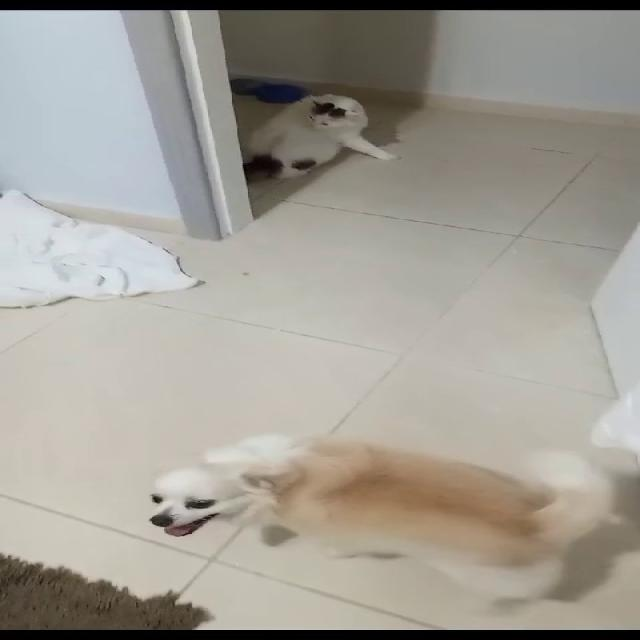Simba: (240, 70, 430, 200)
Theo: (138, 424, 639, 634)
